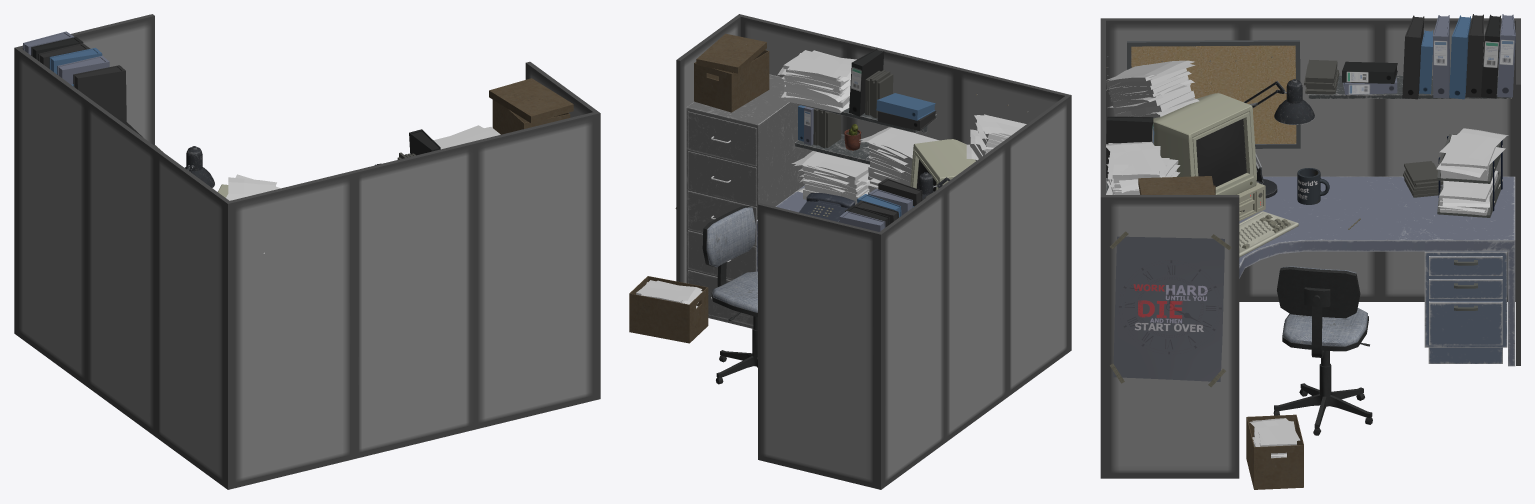
File: office.gltf
3 views of the same model, side by side, from view 1: azimuth 30°, elevation 25°; view 2: azimuth 150°, elevation 25°; view 3: azimuth 270°, elevation 25° (orthographic). The views are drawn at different scales.
Visible parts, largest first — view 1: Object_22, Object_26, Object_29, Object_36, Object_27, Object_28, Object_8; view 2: Object_22, Object_6, Object_36, Object_26, Object_18, Object_9, Object_31, Object_30, Object_28, Object_29, Object_27, Object_21 (+3 smaller); view 3: Object_22, Object_19, Object_2, Object_36, Object_4, Object_14, Object_18, Object_9, Object_26, Object_28, Object_27, Object_29 (+8 smaller).
Part boxes in pixels (x1,y1,x2,y2): Object_22: (14,14,600,489); Object_26: (489,78,573,134); Object_29: (38,43,126,121); Object_36: (226,125,500,253); Object_27: (23,31,109,84); Object_28: (31,37,440,155); Object_8: (185,146,214,187); Object_22: (676,14,1071,489); Object_6: (686,74,812,328); Object_36: (636,50,1026,308); Object_26: (629,33,769,343); Object_18: (702,206,757,384); Object_9: (910,139,975,191); Object_31: (813,70,933,198); Object_30: (798,93,935,217); Object_28: (845,48,924,227); Object_29: (854,110,936,223); Object_27: (804,106,912,231); Object_21: (799,193,855,222); Object_22: (1100,18,1520,478); Object_19: (1239,176,1515,366); Object_2: (1113,236,1224,381); Object_36: (1106,60,1508,458); Object_4: (1424,251,1507,363); Object_14: (1127,40,1300,148); Object_18: (1273,266,1372,435); Object_9: (1153,93,1256,194); Object_26: (1138,176,1303,489); Object_28: (1106,14,1500,177); Object_27: (1343,14,1515,98); Object_29: (1402,14,1483,99).
Bounding box in the file's own units: 10.94 × 7.72 × 10.21.
